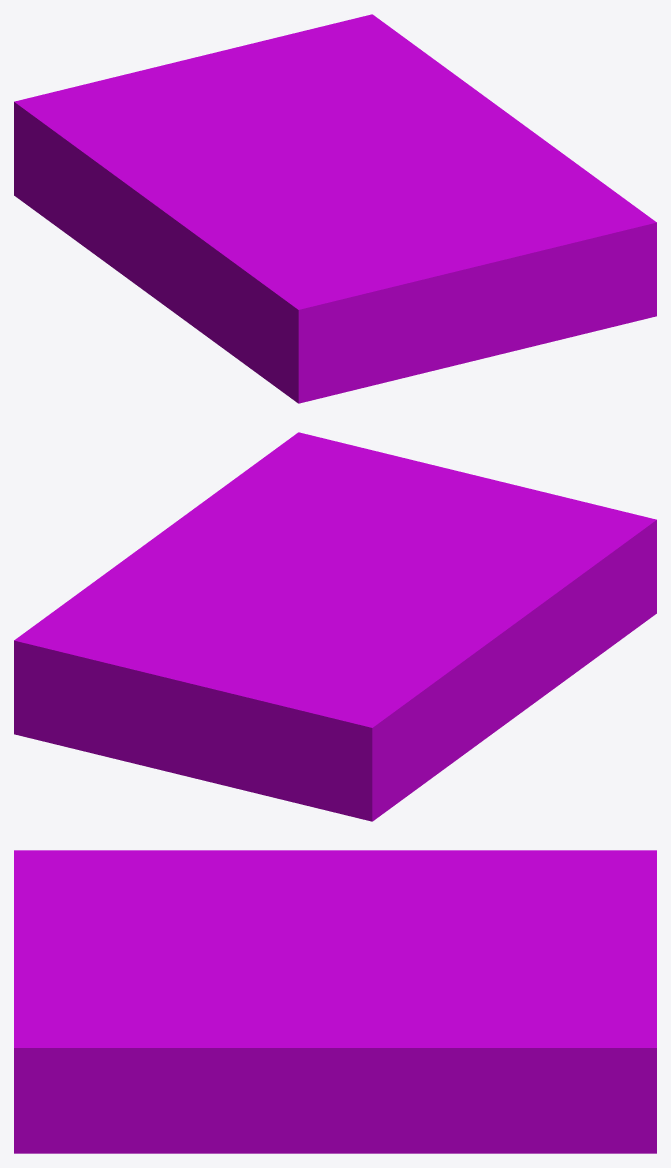
File: MHA.glb
3 renders of one model, top to bottom at view 1: azimuth 30°, elevation 25°; view 2: azimuth 150°, elevation 25°; view 3: azimuth 270°, elevation 25°, orthographic. The views are drawn at different scales.
Parts seen in each view (by area): view 1: Cube.006; view 2: Cube.006; view 3: Cube.006.
Part boxes in pixels (left/top/right/bottom): Cube.006: left=14, top=14, right=656, bottom=403; Cube.006: left=14, top=432, right=656, bottom=821; Cube.006: left=14, top=850, right=656, bottom=1153.
Size of the model in its own units: 16 by 4 by 22.
